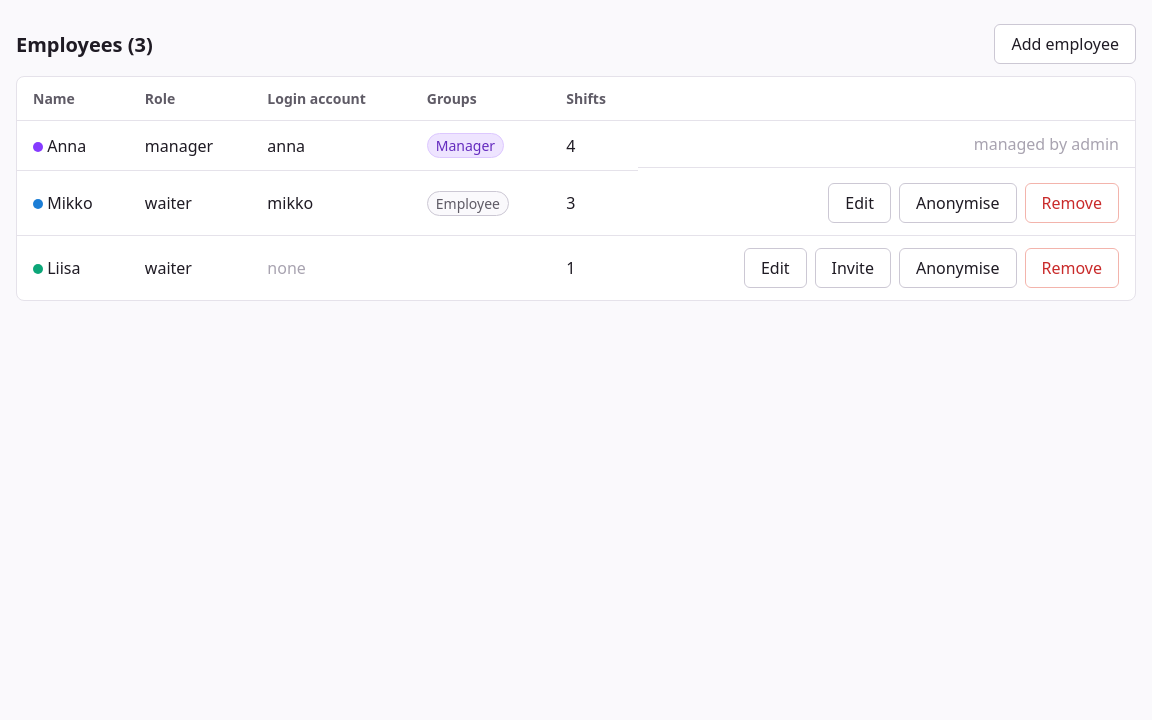
Test case: without email on the server, the manager gets the invitation link to pass on
The width and height of the screenshot is (1152, 720).
Click the button "Add employee": x=1065, y=44 [994,24,1136,64]
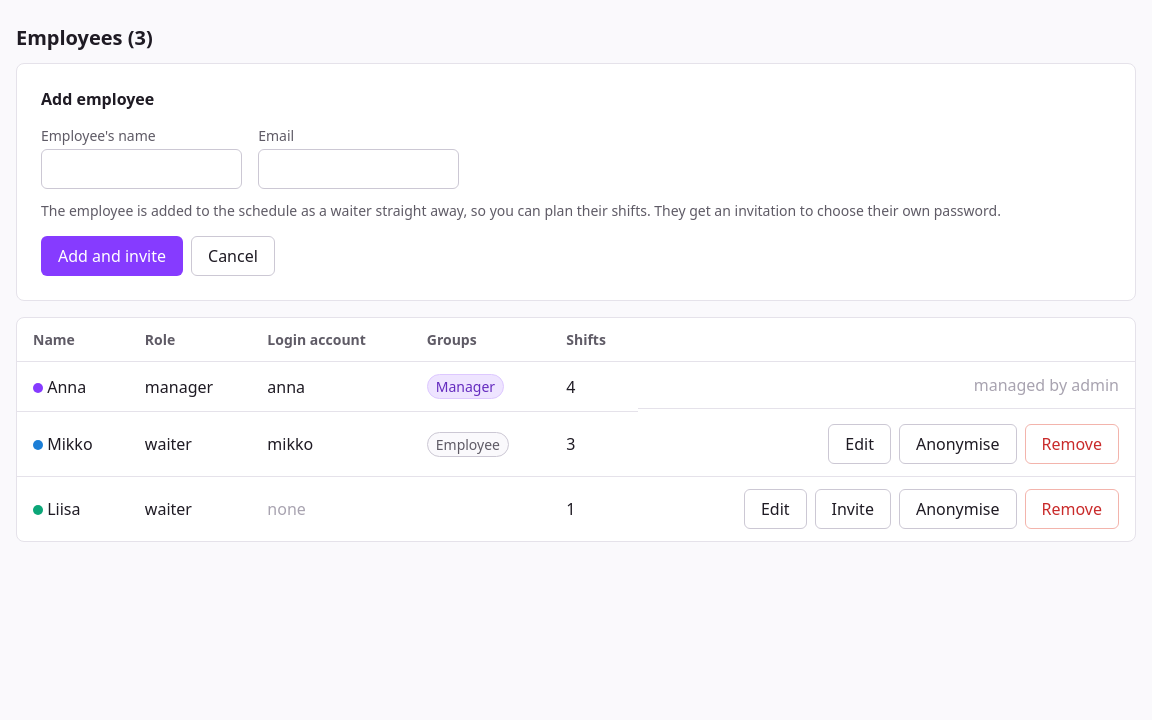
In the field labelled "Employee's name": x=142, y=169 [41,149,242,189], type "Kalle"
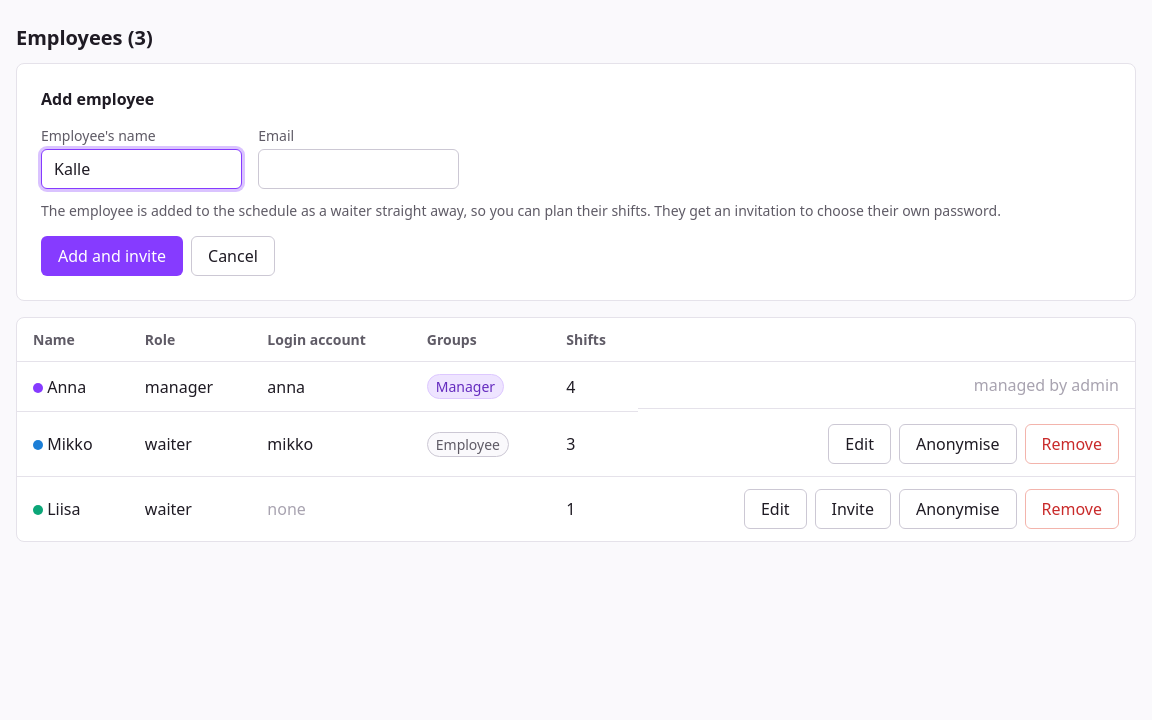
In the field labelled "Email": x=359, y=169 [258,149,459,189], type "kalle@example.com"
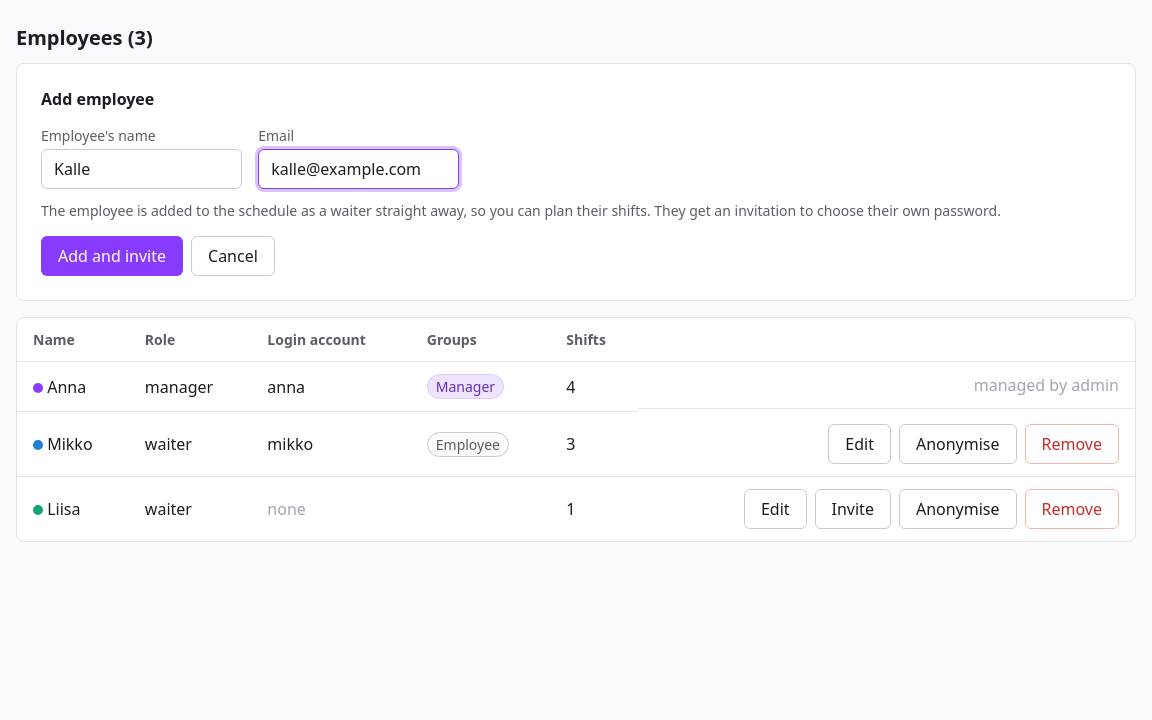
Click the button "Add and invite": x=112, y=256 [41,236,183,276]
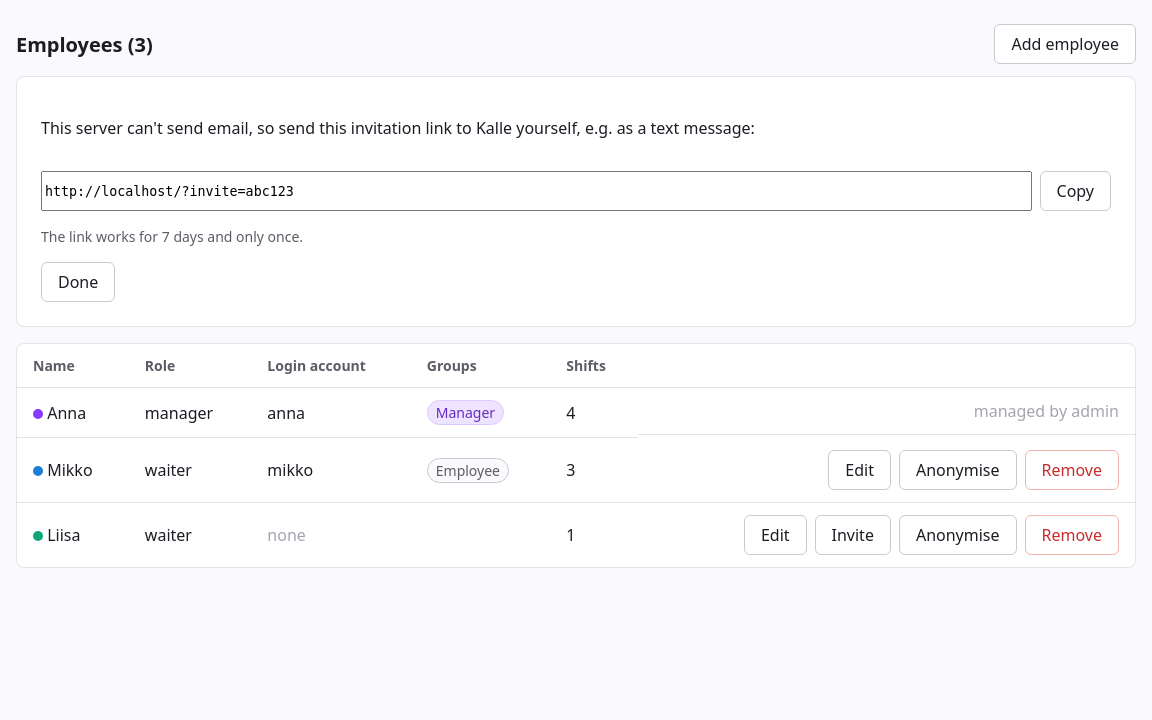
Check: the field named "Invitation link" holds "http://localhost/?invite=abc123", box [41,171,1032,211]
Check: the text "send this invitation link to Kalle yourself" is shown, box [41,117,755,139]
